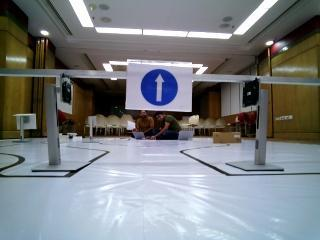straight: (125, 60, 193, 113)
